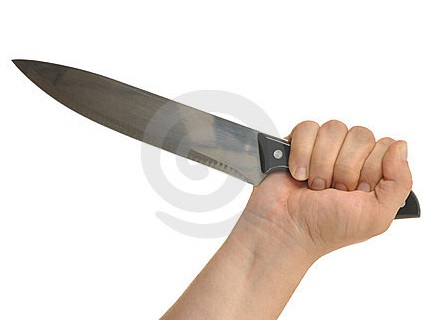knife: (7, 50, 426, 230)
